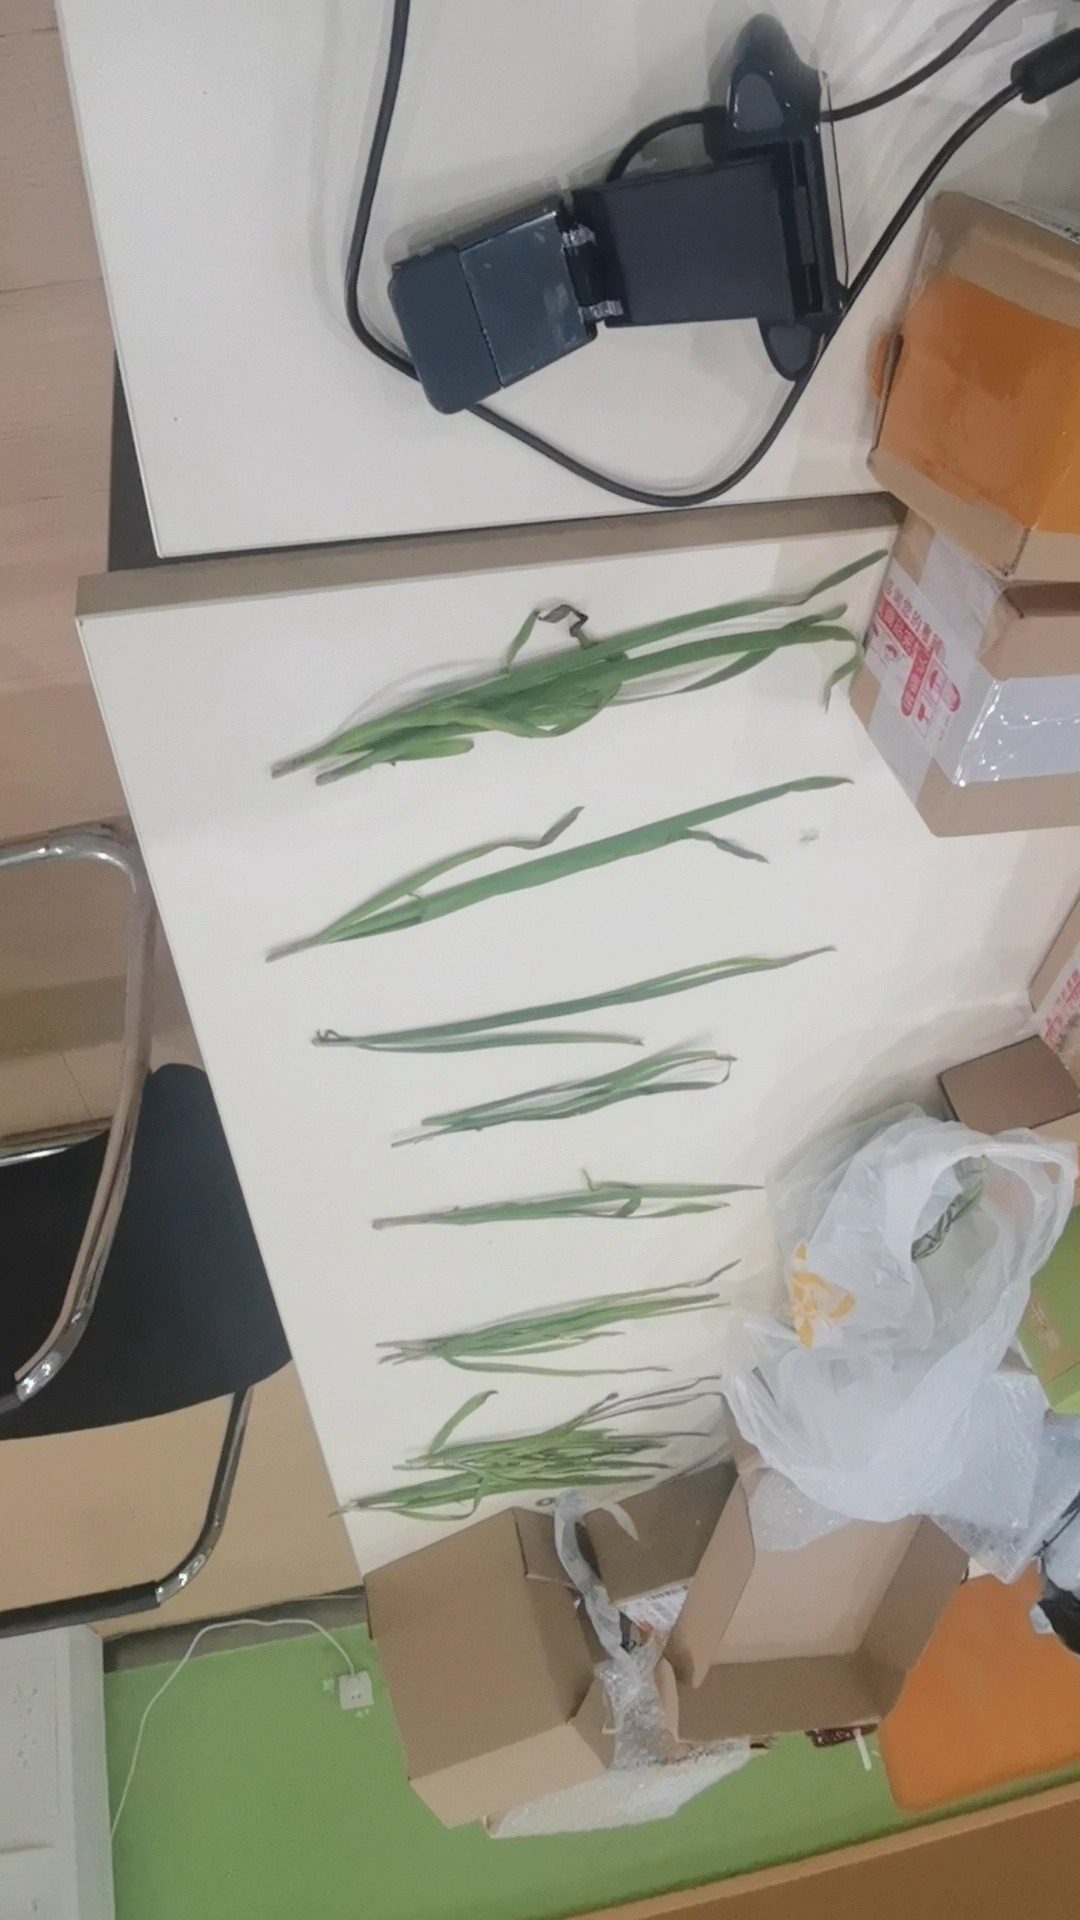chives: (229, 562, 926, 796), (202, 775, 934, 975), (280, 963, 945, 1065), (347, 1048, 843, 1153), (340, 1415, 735, 1535), (382, 1273, 783, 1379), (359, 1184, 810, 1262)
